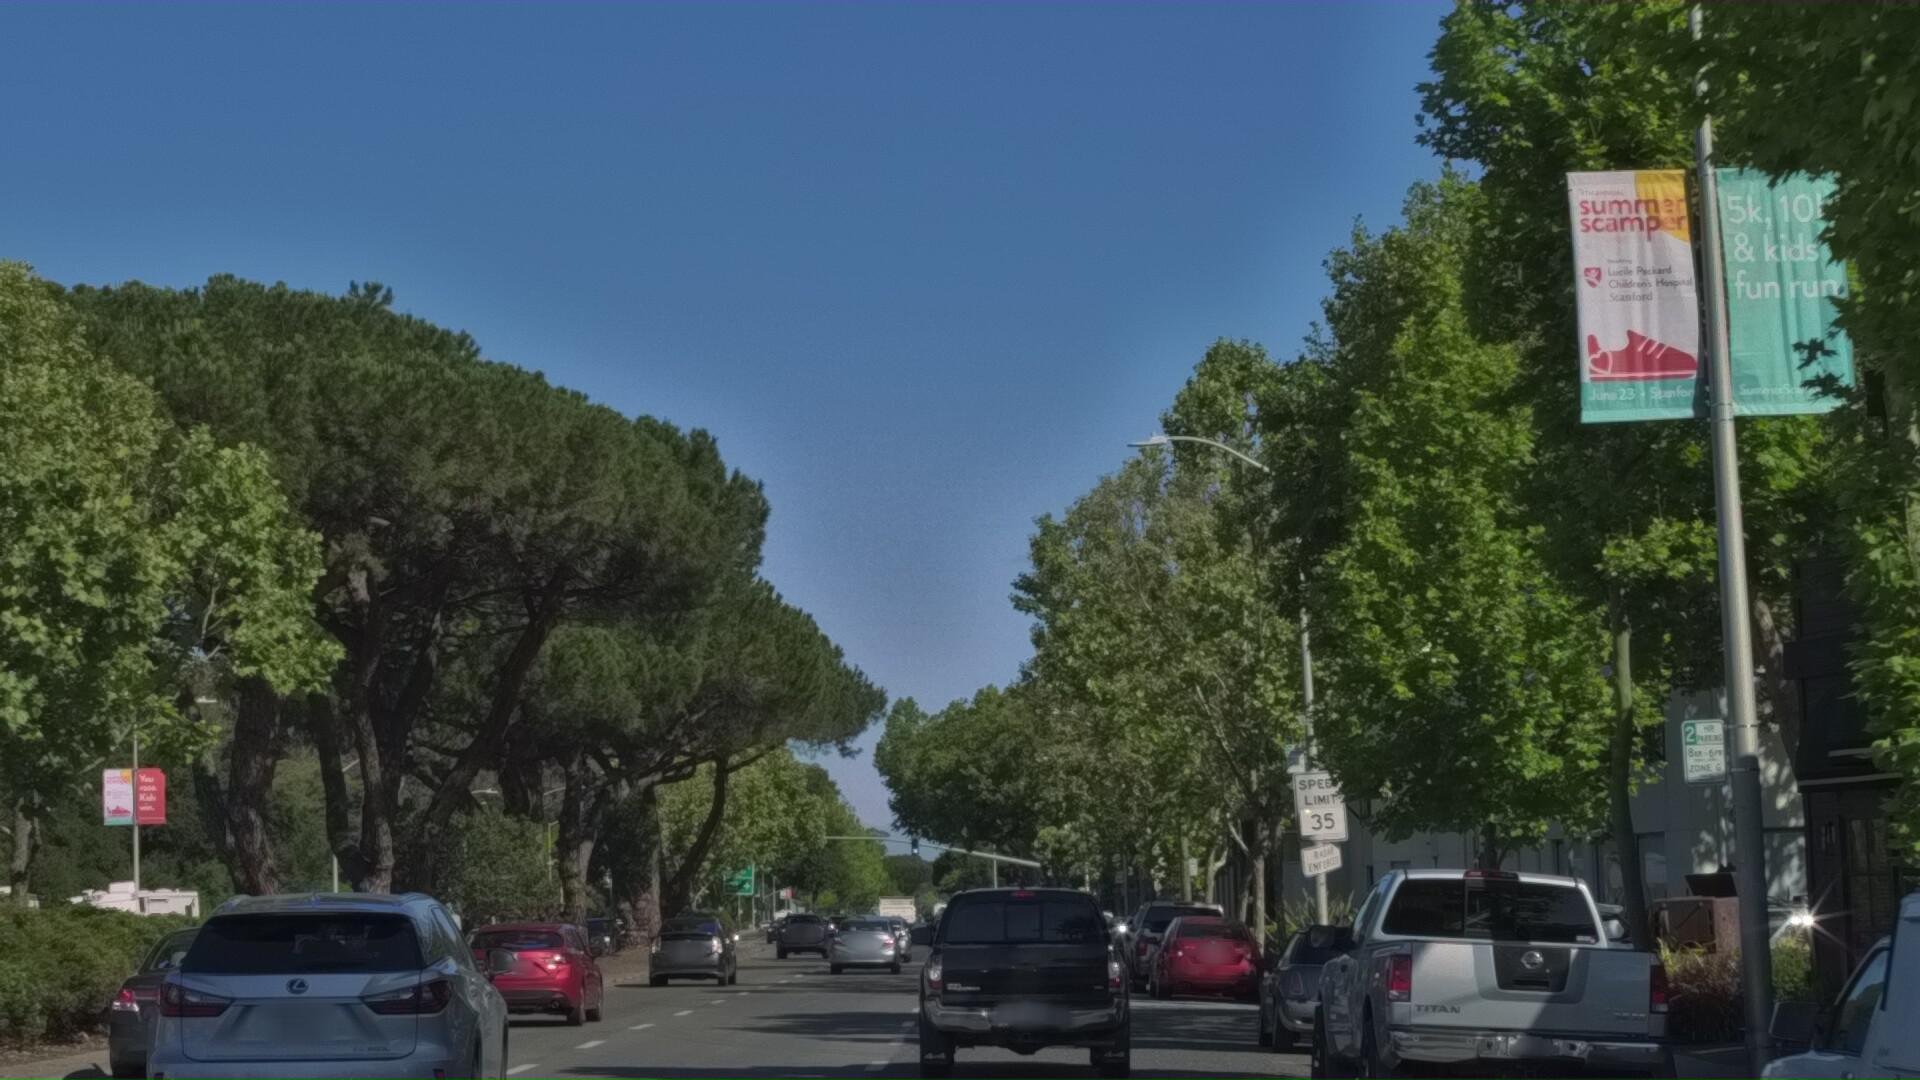car: (1278, 931, 1697, 1080), (1712, 848, 1920, 1080), (132, 957, 524, 1080), (913, 961, 1134, 1080), (69, 1011, 371, 1080), (448, 1015, 607, 1080), (1145, 1018, 1270, 1080), (898, 1007, 1004, 1080), (644, 1014, 744, 1080), (1225, 1044, 1407, 1080)
other_vehicle: (1113, 992, 1267, 1080)
